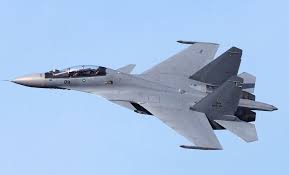maybay_muctieu: (4, 35, 269, 157)
